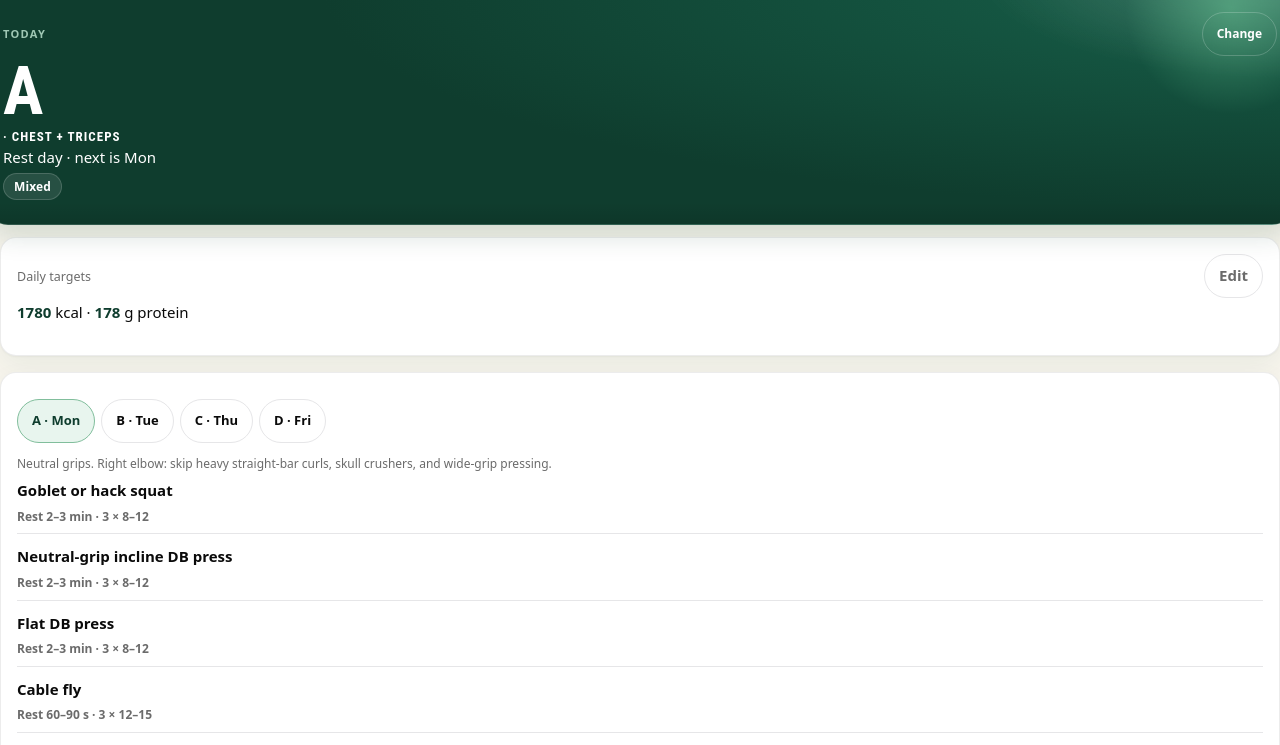
Test: change workout › returns to the planned cut letter
Step 1. Click the button with aria-label "Change workout" → x=1239, y=34, box [1202, 12, 1277, 56]
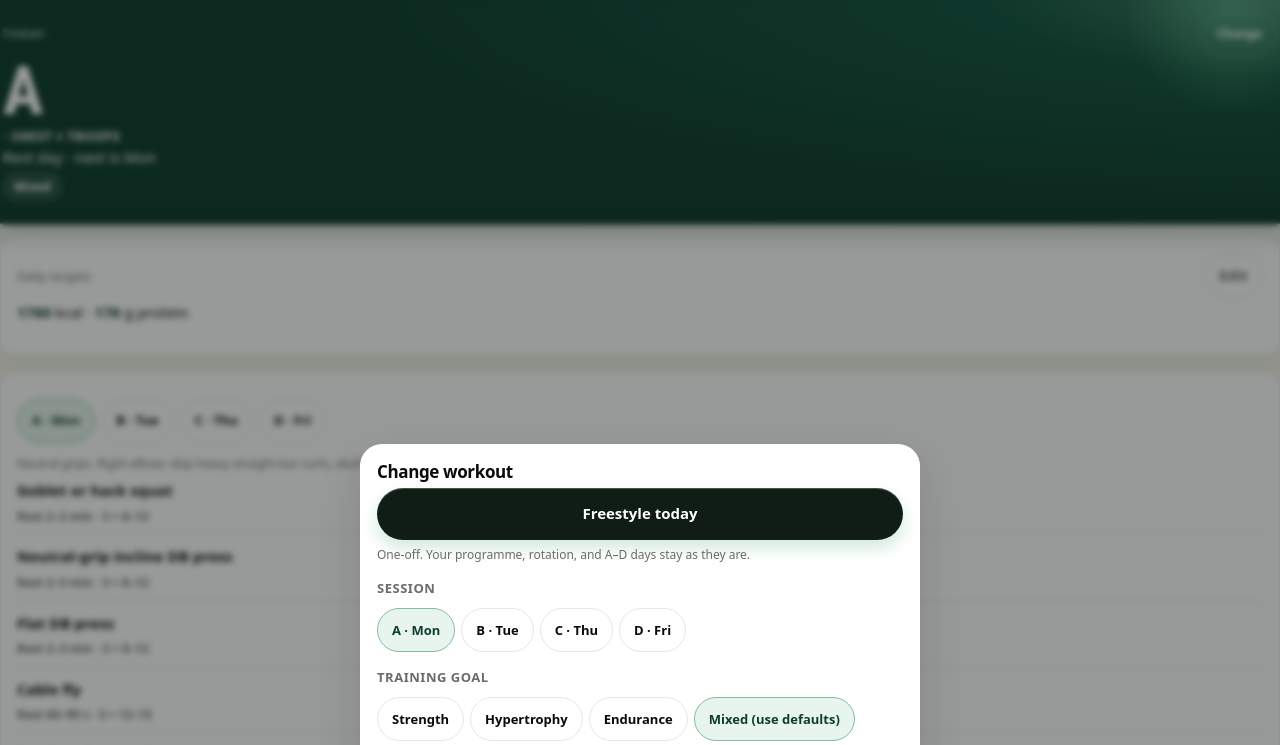
Step 2. Click the button "Freestyle today" → x=640, y=514, box [377, 488, 903, 540]
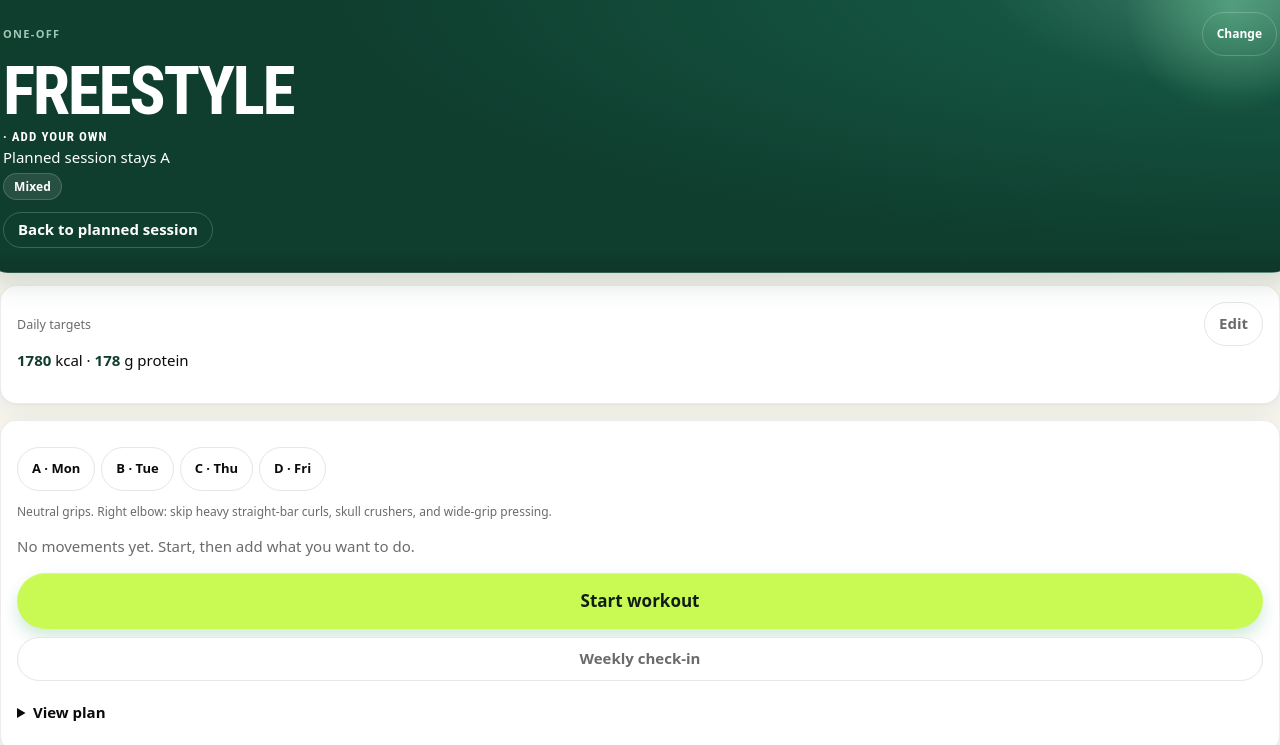
Now the heading "Freestyle · add your own" is shown, box [3, 51, 293, 144]
Step 3. Click the button "Back to planned session" → x=108, y=230, box [3, 212, 213, 248]
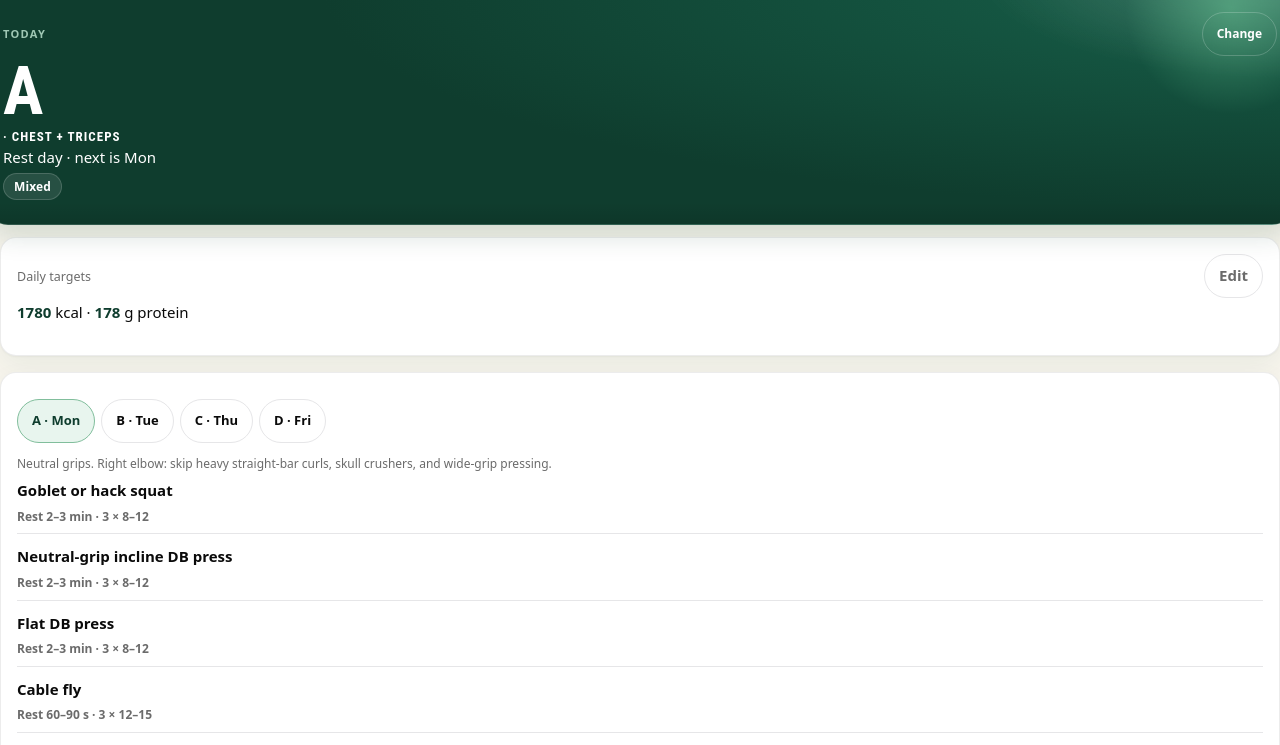
Now the heading "Freestyle · add your own" no longer shows "Freestyle"
